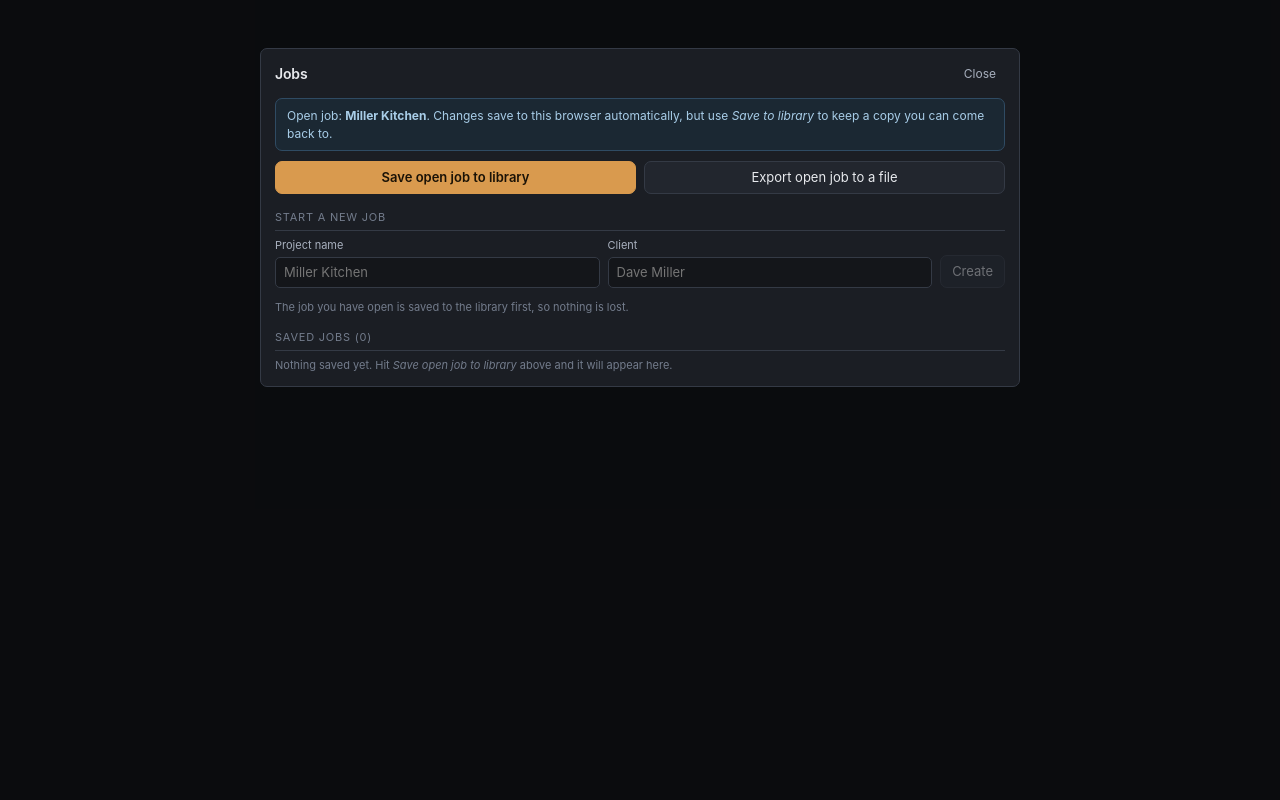
it: JobsPanel › files the open job and lists it with its measurements
Click the button "Save open job to library".
click(456, 178)  # box [275,161,636,194]
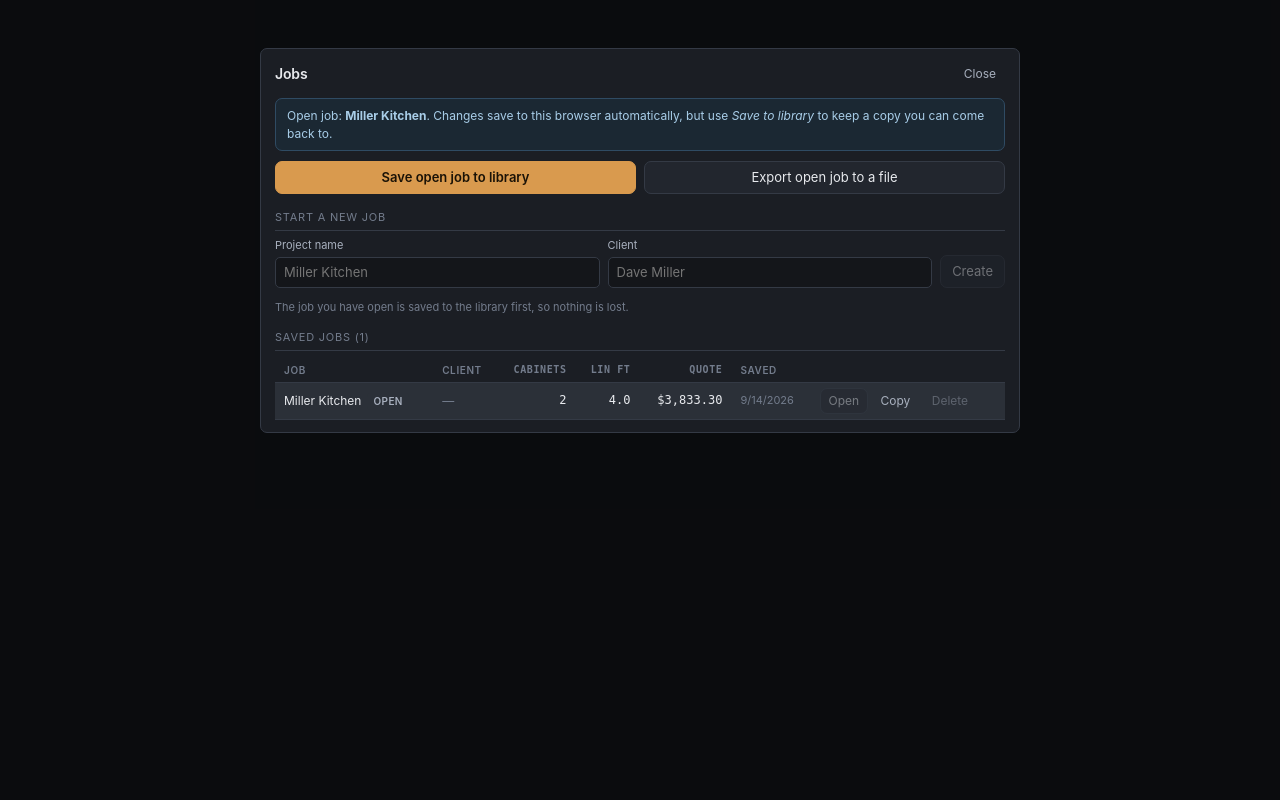
Now the cell "Miller Kitchen open" is shown, box [275,383,433,419]
